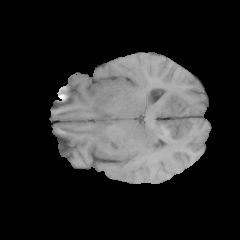glioma: (98, 114, 163, 159)
